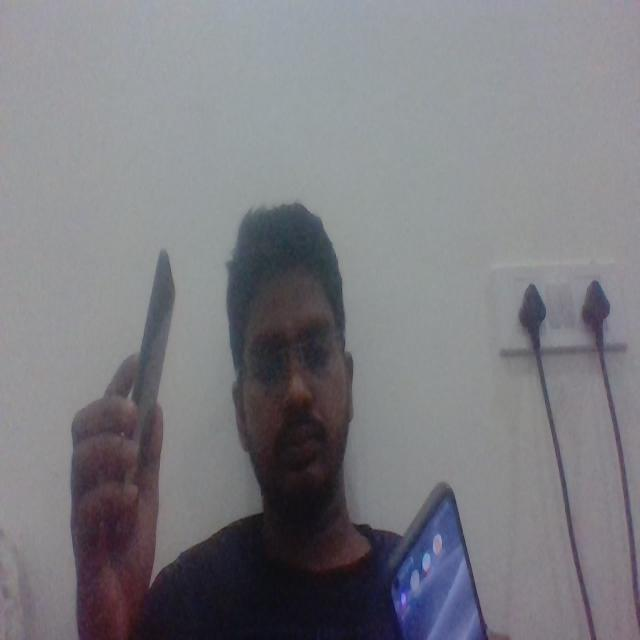Phone: (367, 477, 488, 640), (126, 247, 179, 480)
